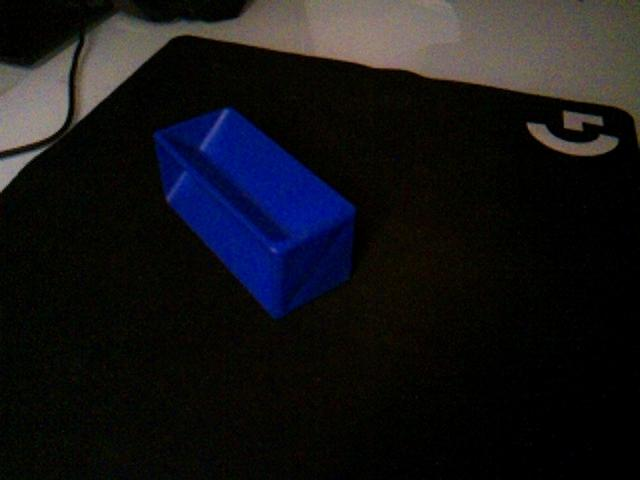blue: (151, 105, 359, 320)
